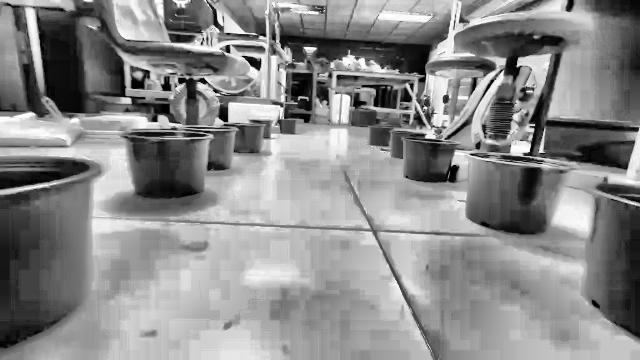pot: (0, 157, 99, 347), (468, 154, 572, 234), (587, 182, 639, 336), (121, 129, 212, 198), (181, 126, 238, 171), (402, 138, 458, 182), (227, 122, 264, 153), (390, 129, 425, 159)
